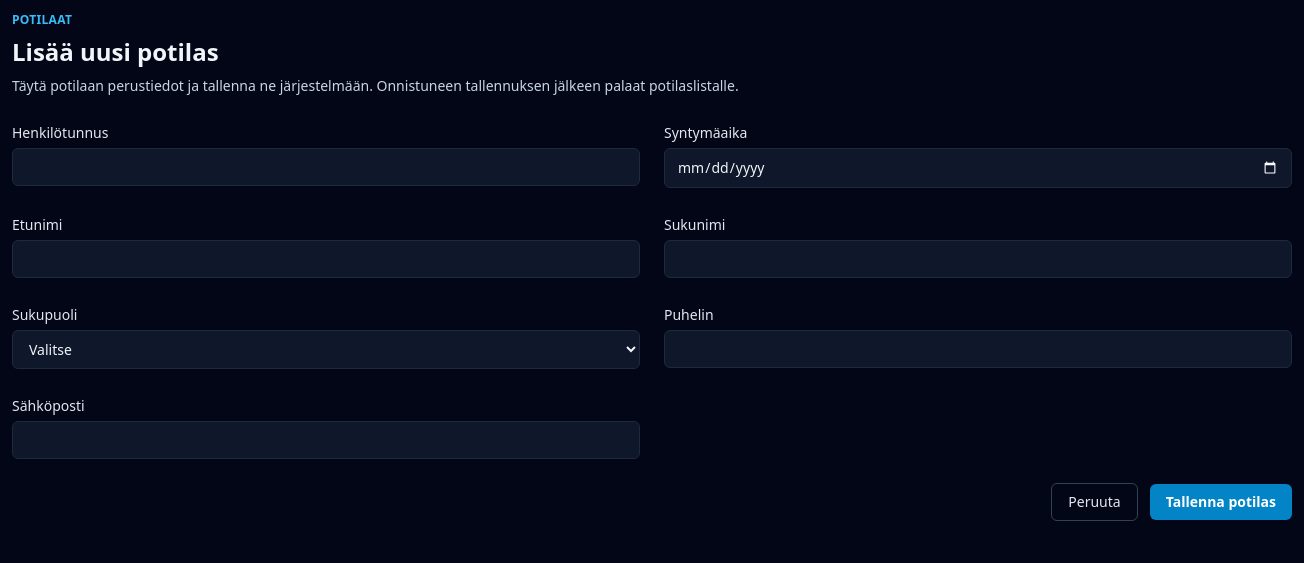
Scenario: PatientCreatePage › antaa palautteen virheellisestä henkilötunnuksesta
Type "123" into the field labelled "Henkilötunnus". click: {"x": 326, "y": 167}
box: [12,148,640,186]
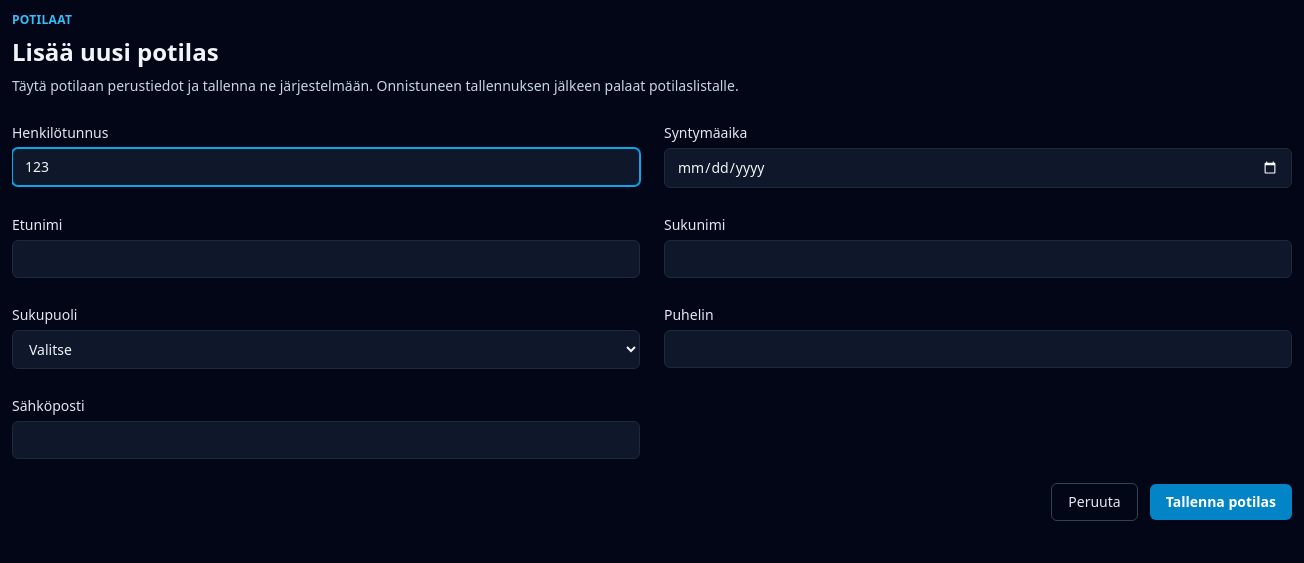
Type "Testi" into the field labelled "Etunimi". click: {"x": 326, "y": 259}
box: [12,240,640,278]
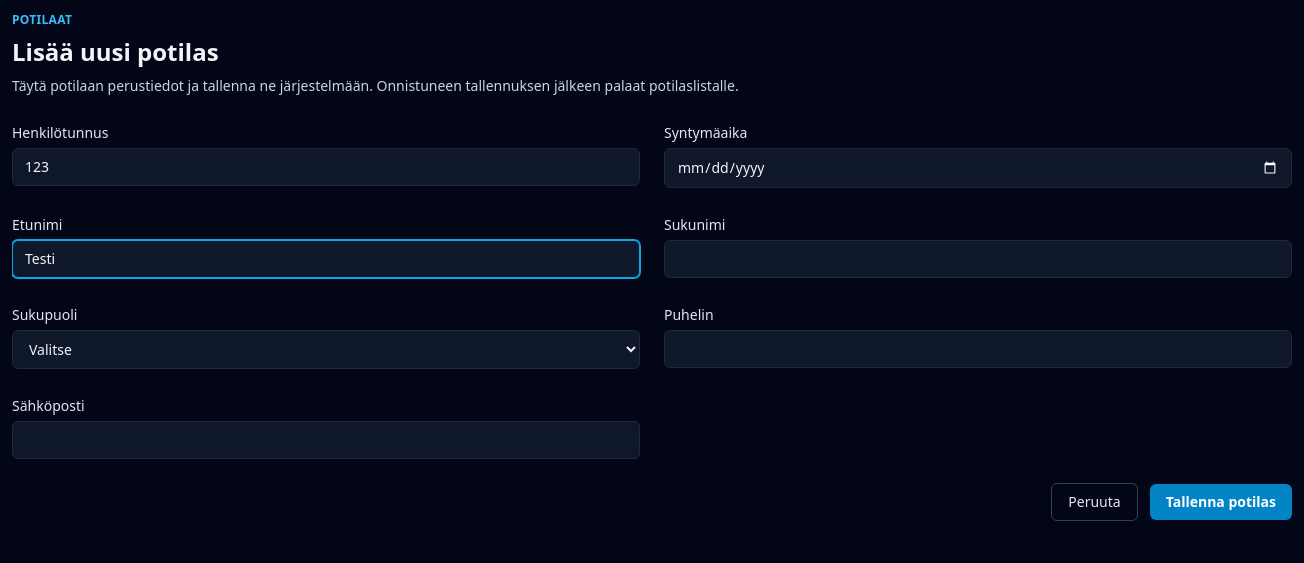
Type "Potilas" into the field labelled "Sukunimi". click: {"x": 978, "y": 259}
box: [664,240,1292,278]
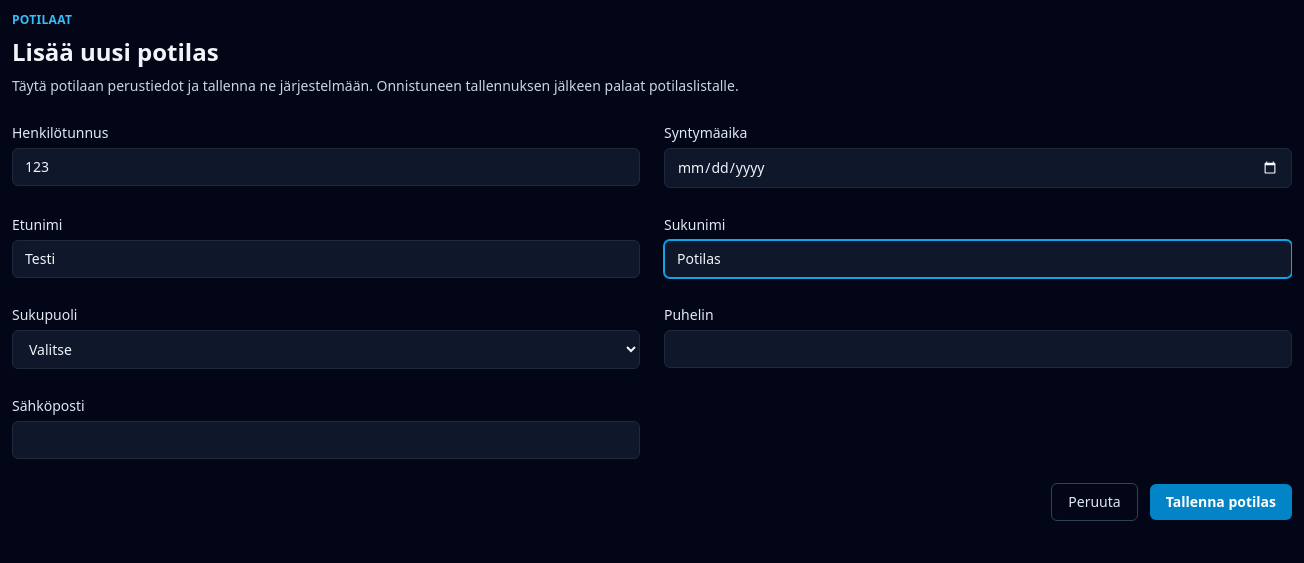
Click the button "Tallenna potilas". click: {"x": 1221, "y": 502}
box: [1150,484,1292,520]
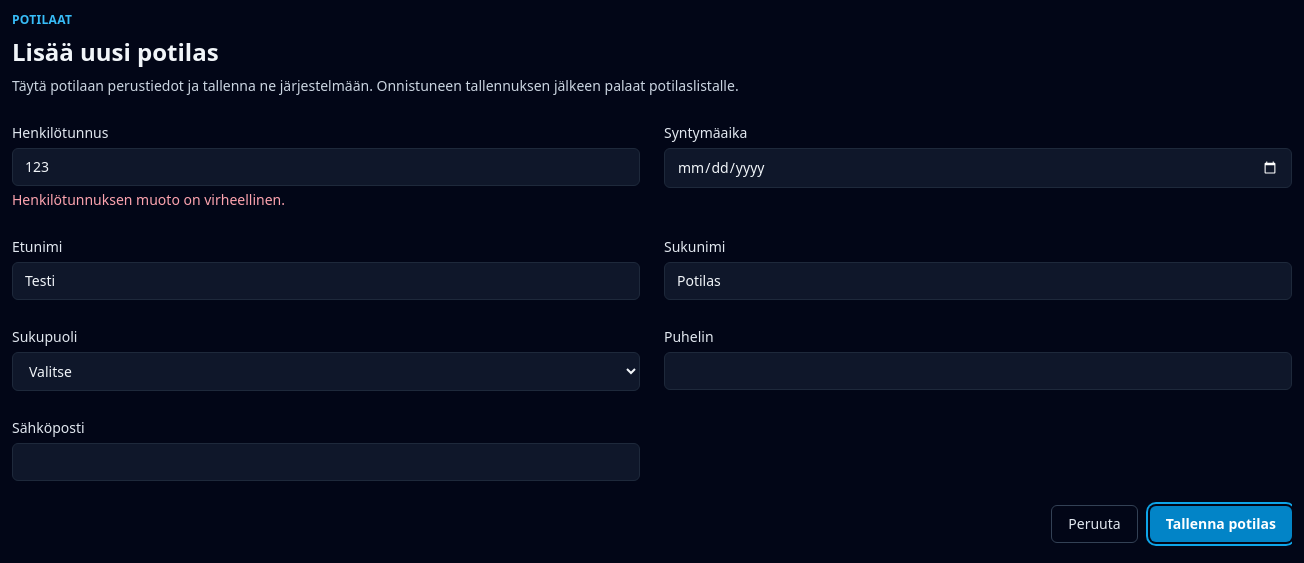
Now the text "Henkilötunnuksen muoto on virheellinen." is shown, box [12,190,285,209]
